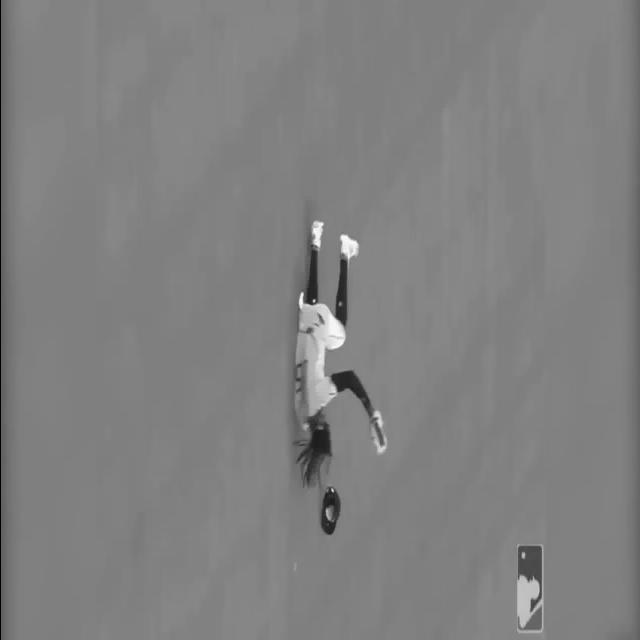baseball_glove: (368, 407, 390, 458)
shoe: (338, 231, 360, 267), (310, 208, 324, 248)
